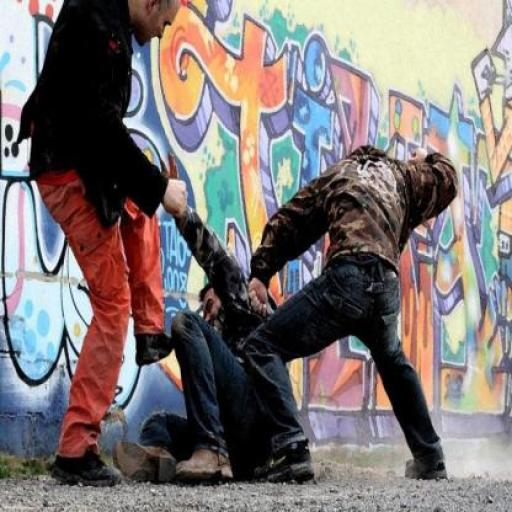Fighting: (28, 0, 456, 492)
